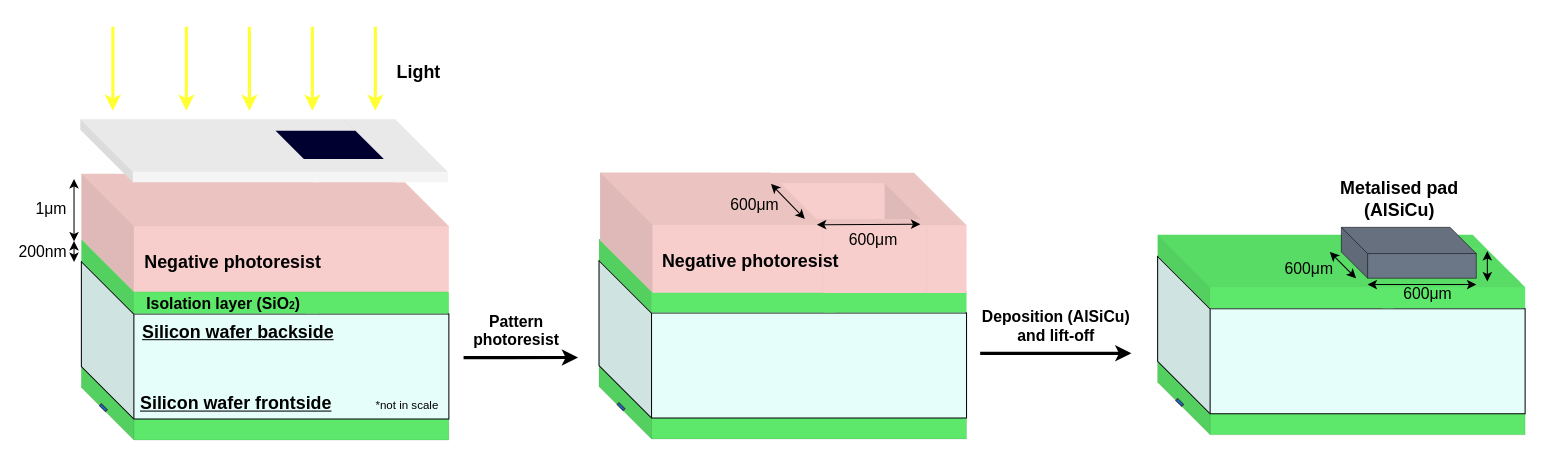
Image size: 1557x459. Some labels were removed from this diagram. Here are the shapes that lost their labels. From the top down, the centre of each, then its label:
point 198,150: Mask
point 1478,272: 300nm
